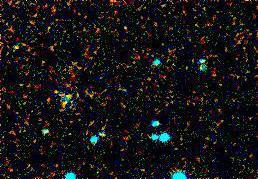star: (112, 7, 142, 37)
